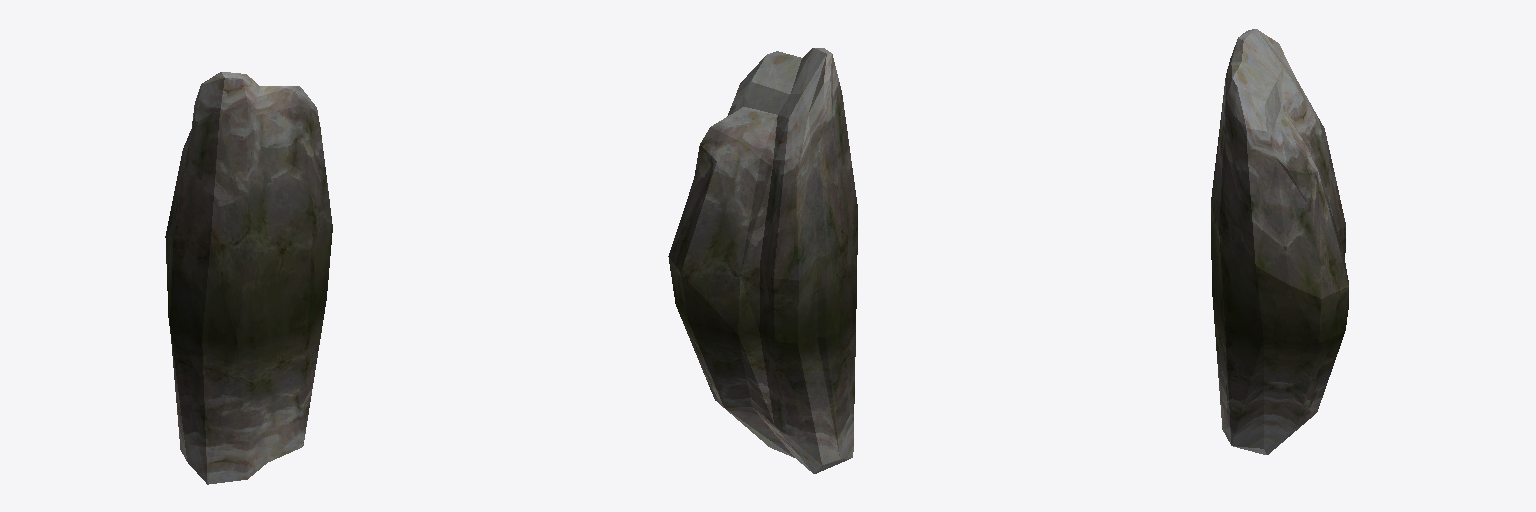
3 views of the same model, side by side, from view 1: azimuth 30°, elevation 25°; view 2: azimuth 150°, elevation 25°; view 3: azimuth 270°, elevation 25° (orthographic).
Visible parts, largest first — view 1: sholazar_rockc; view 2: sholazar_rockc; view 3: sholazar_rockc.
Part boxes in pixels (x1,y1,x2,y2): sholazar_rockc: (165,72,332,484); sholazar_rockc: (668,48,857,473); sholazar_rockc: (1211,29,1348,454).
Size of the model in its own units: 3.16 by 7.84 by 2.41.
Materials: 1 (1 with a texture image).